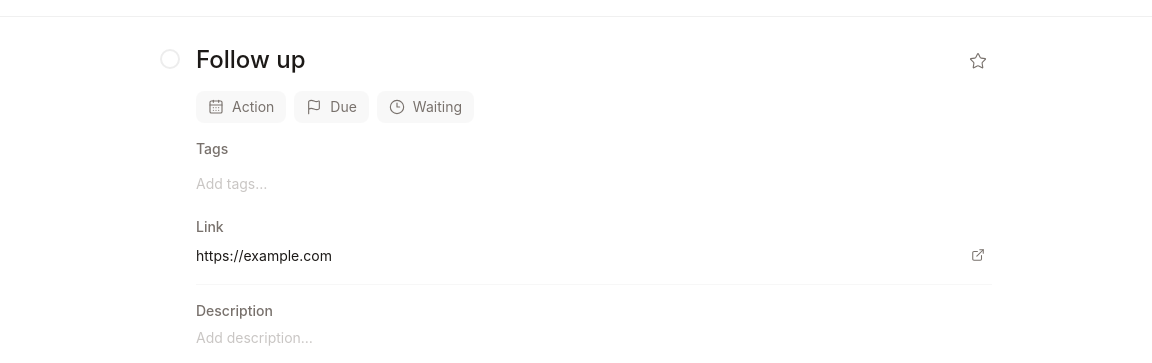
TaskDetailPanel › shows a tooltip for the open link action
This screenshot has width=1152, height=363.
Hover over the button named "Open link": (978, 255) [964, 241, 992, 269]
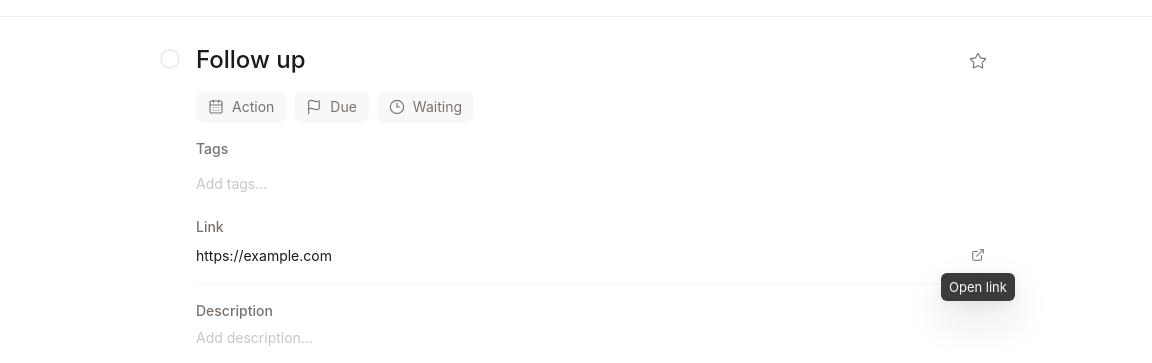
Check: the tooltip reads "Open link", box [949, 279, 1007, 295]
